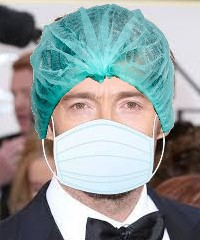with_mask_and_cap: (32, 5, 173, 195)
